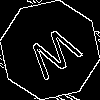W: (25, 25, 89, 90)
